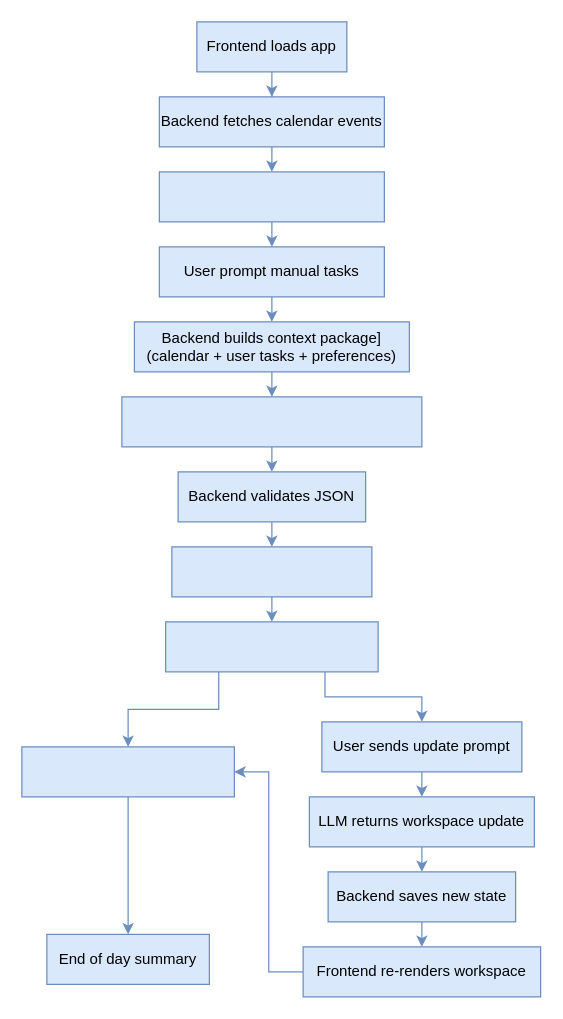
The diagram is 563 pixels wide and 1019 high, and some of its shapes have lost their labels. The shapes that lost their labels are listed below. From the top down, each one's centre as x and y in pixels, then its label:
At pixel 271 196: "Frontend displays fixed blocks".
At pixel 271 421: "LLM generates structured workspace JSON".
At pixel 271 571: "Save workspace state to DB".
At pixel 271 646: "Frontend renders workspace".
At pixel 127 771: "User clicks launch tools".
